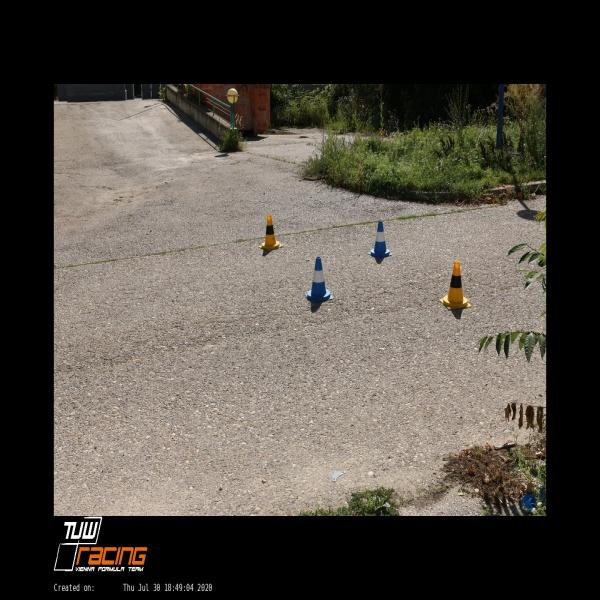blue_cone: (304, 256, 334, 302), (367, 220, 393, 258)
yellow_cone: (440, 260, 472, 310), (259, 214, 283, 250)
